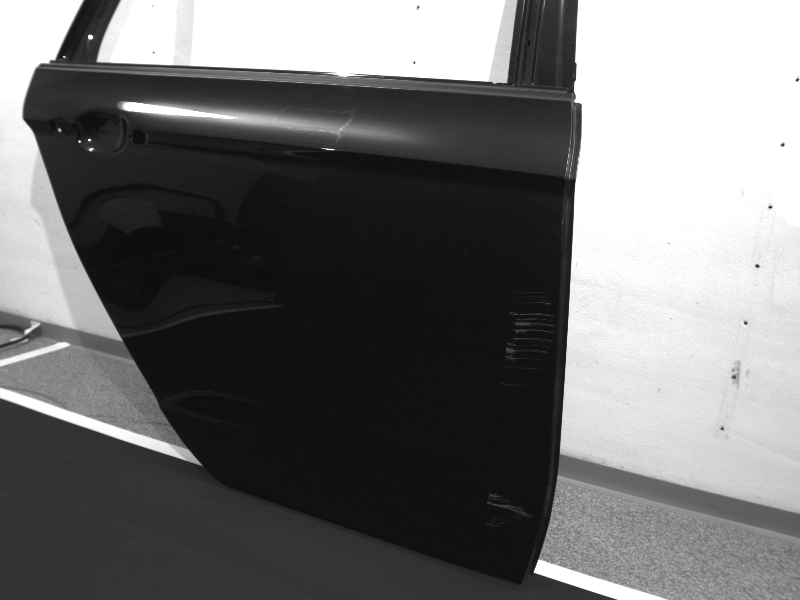scratch: (501, 288, 555, 387), (485, 491, 534, 528), (223, 217, 245, 228)
